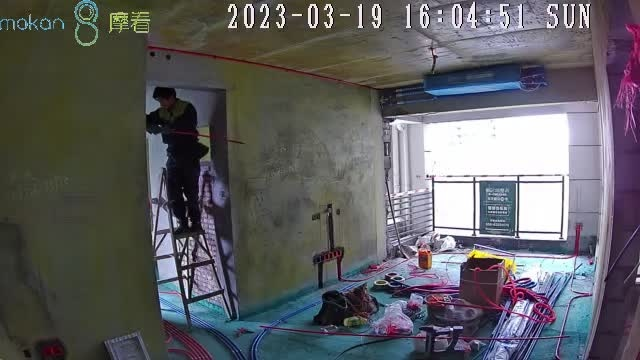people: (146, 88, 201, 238)
window: (423, 107, 568, 239)
